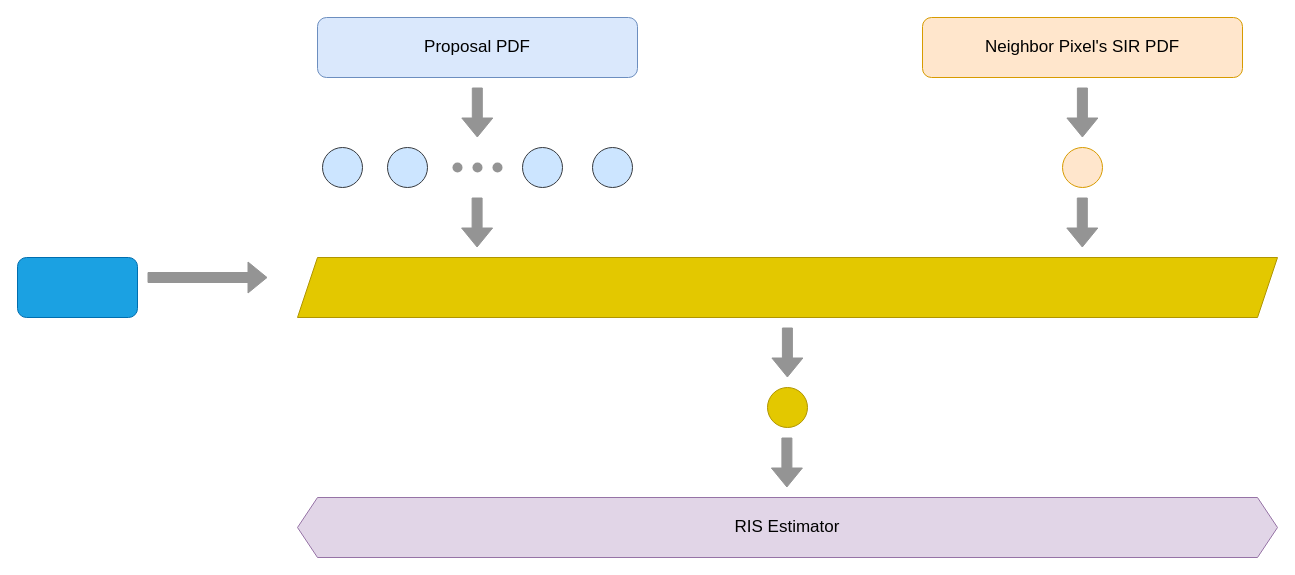
Image size: 1295x575. Some labels were removed from this diagram. The box of each missing label's shape, as (x1, y1, x2, y2) in pixels:
Picking a target sample from proposal sample set: (296, 256, 1278, 318)
Target Function: (16, 256, 138, 318)
